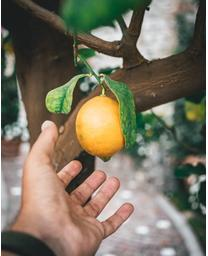lemon: (76, 97, 126, 160)
